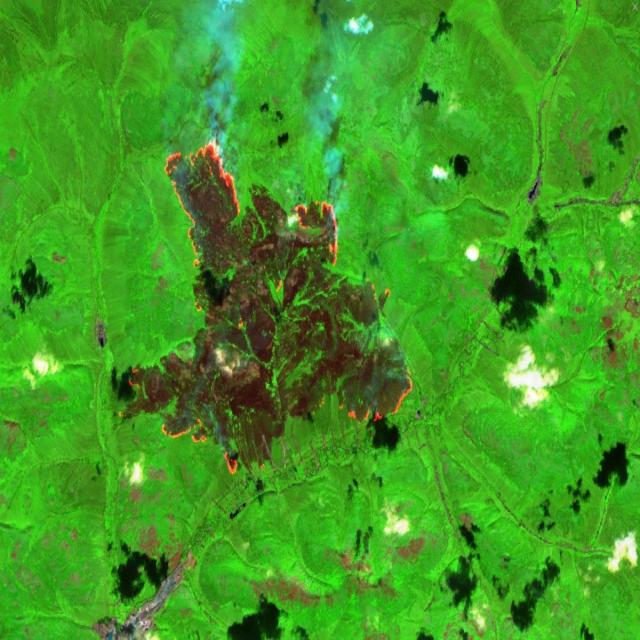fire: (117, 131, 421, 477)
